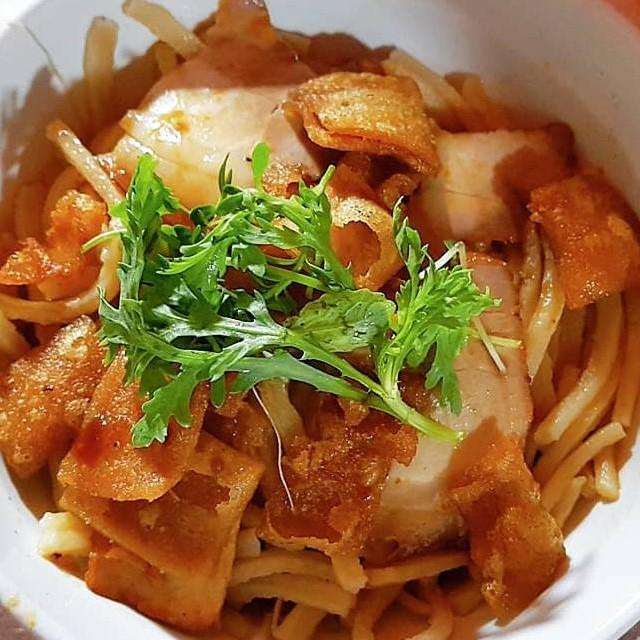banh da: (254, 350, 442, 566), (51, 424, 268, 584), (51, 315, 223, 510), (434, 424, 576, 631), (249, 139, 428, 301), (0, 309, 126, 482), (280, 62, 452, 186), (519, 160, 640, 314), (0, 186, 121, 300)
mi: (502, 213, 640, 542), (183, 497, 496, 640), (0, 111, 149, 366), (73, 0, 212, 168)
mi quang: (0, 0, 640, 640)
thit heo: (332, 235, 538, 567), (92, 0, 347, 252), (385, 113, 593, 262)
